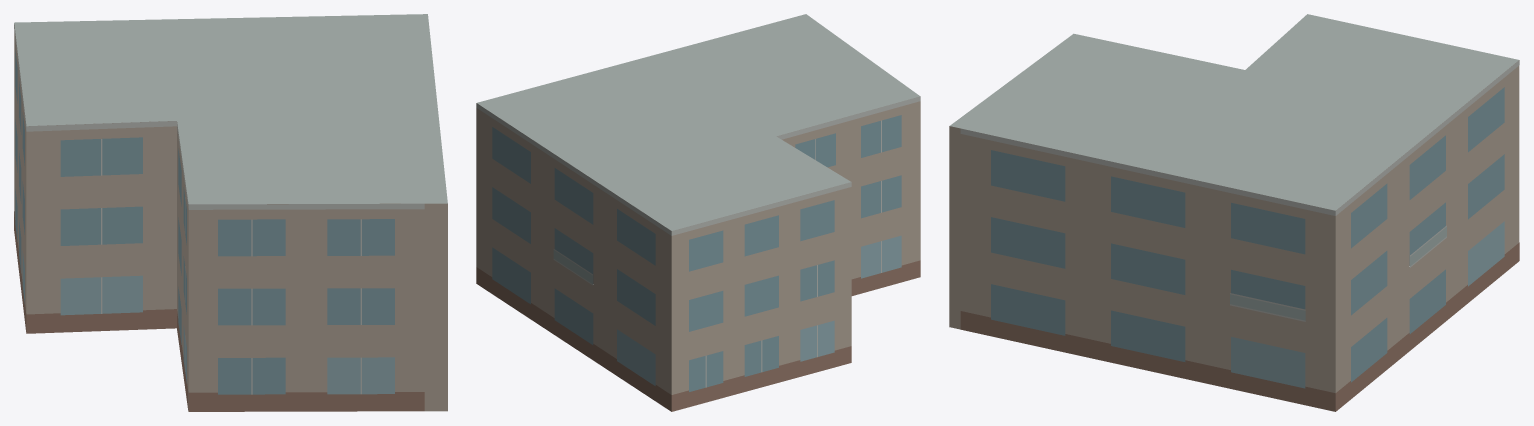
The model's file is survey-upis-32813038.glb.
3 renders of one model, left to right at view 1: azimuth 30°, elevation 25°; view 2: azimuth 150°, elevation 25°; view 3: azimuth 270°, elevation 25°, orthographic. The views are drawn at different scales.
Visible parts, largest first — view 1: survey-upis-32813038.tmp; view 2: survey-upis-32813038.tmp; view 3: survey-upis-32813038.tmp.
Part boxes in pixels (x1,y1,x2,y2): survey-upis-32813038.tmp: [14, 14, 447, 411]; survey-upis-32813038.tmp: [476, 14, 920, 411]; survey-upis-32813038.tmp: [949, 14, 1519, 411].
Bounding box in the file's own units: 19.21 × 9.15 × 23.5.
